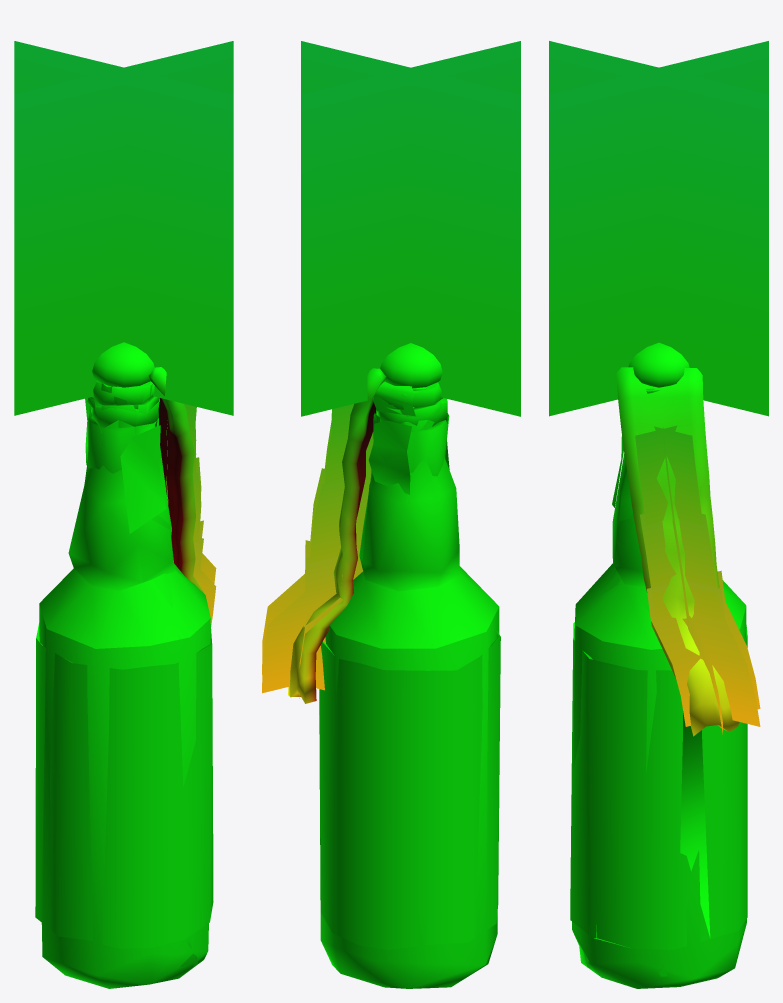
File: SM_MolotovBottle.fbx
The picture shows the model from 3 angles, left to right: view 1: azimuth 30°, elevation 25°; view 2: azimuth 150°, elevation 25°; view 3: azimuth 270°, elevation 25°; orthographic projection.
Parts seen in each view (by area): view 1: SM_MolotovBottle; view 2: SM_MolotovBottle; view 3: SM_MolotovBottle.
Boxes of the visible parts, box(x1,y1,x2,y2) form: SM_MolotovBottle: box(14, 41, 233, 988); SM_MolotovBottle: box(262, 41, 520, 988); SM_MolotovBottle: box(549, 41, 768, 988).
Bounding box in the file's own units: 10.4 × 38.69 × 8.66.
